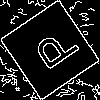P: (25, 24, 82, 77)
